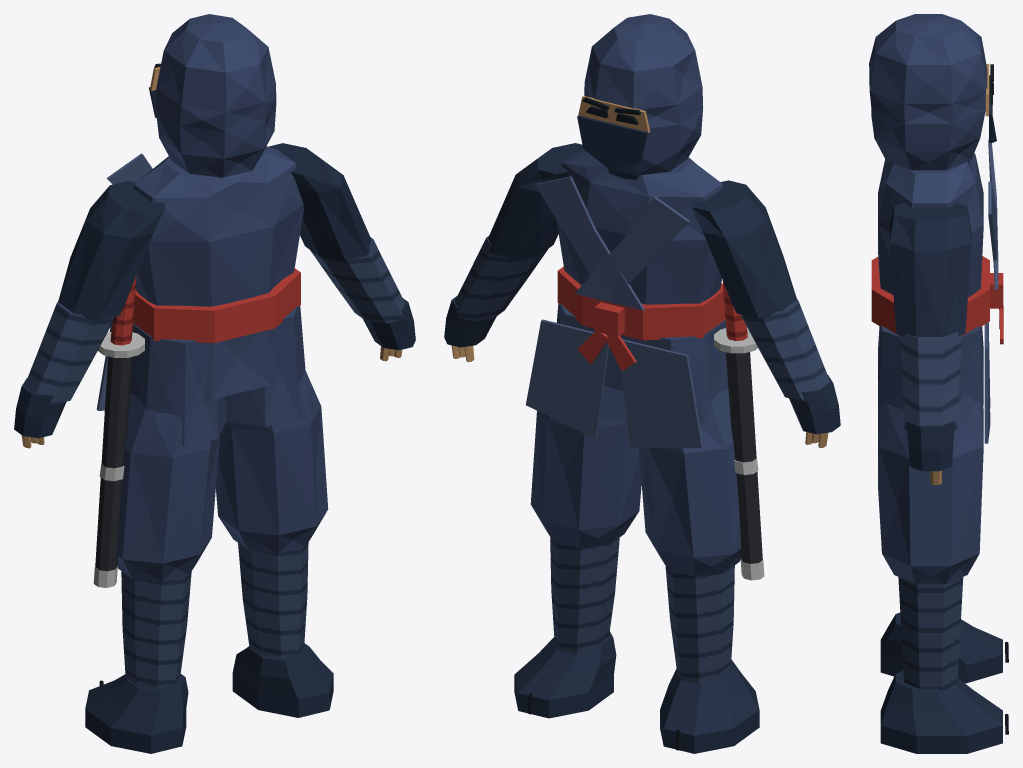
3 renders of one model, left to right at view 1: azimuth 30°, elevation 25°; view 2: azimuth 150°, elevation 25°; view 3: azimuth 270°, elevation 25°, orthographic.
Bounding box in the file's own units: 1.01 × 1.7 × 0.317.
1 material, 1 textured.
